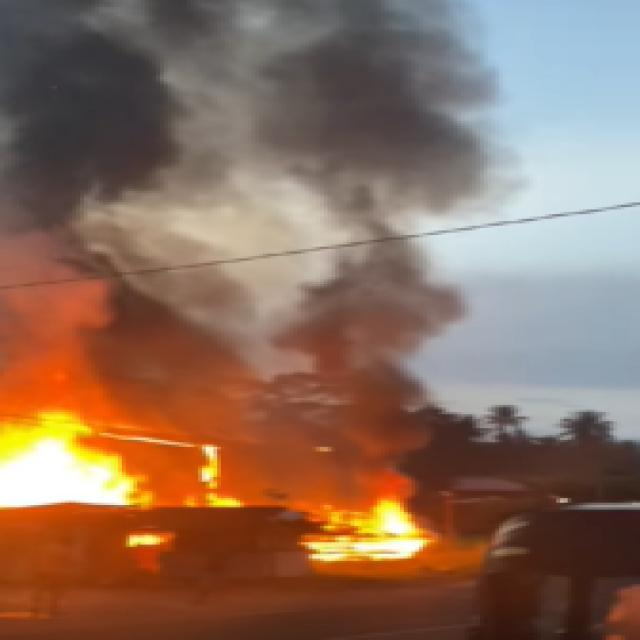Fire: (0, 358, 176, 546), (338, 494, 472, 574)
Smoke: (0, 0, 514, 461)
